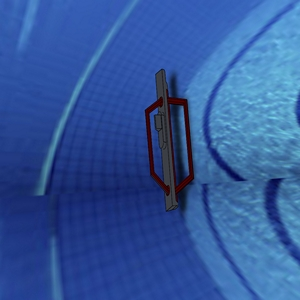submarine: (123, 49, 210, 218)
